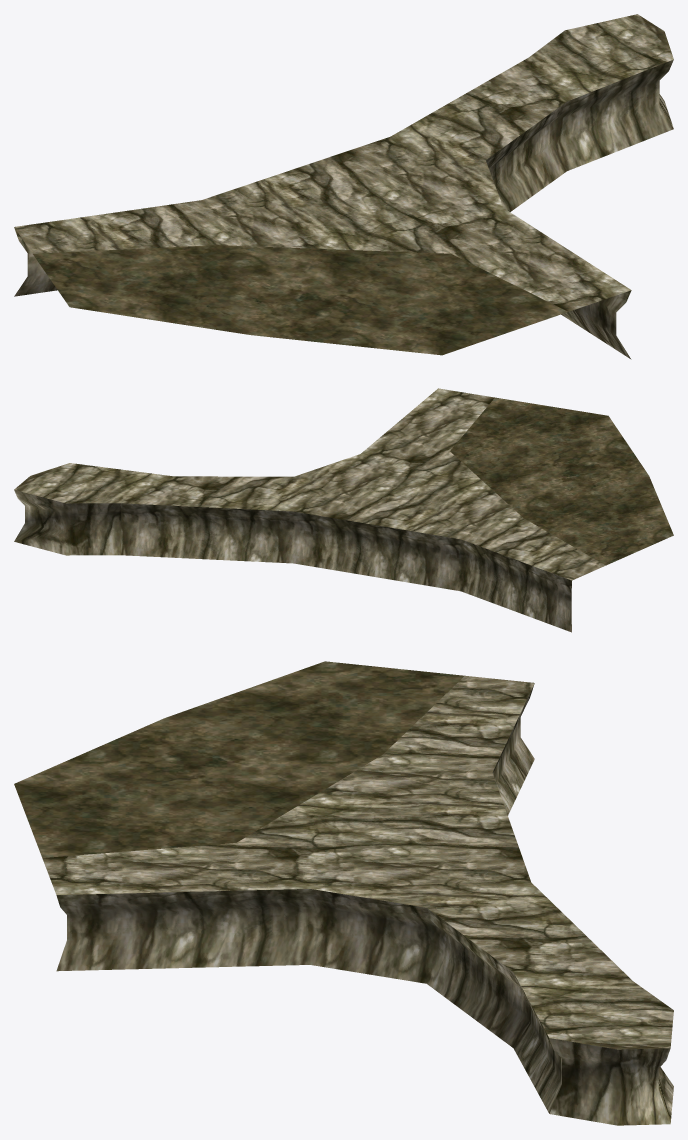
Rendered from CB_NEWPLAYSURFACE_CB_PLAYSURFACE152.fbx.
3 renders of one model, top to bottom at view 1: azimuth 30°, elevation 25°; view 2: azimuth 150°, elevation 25°; view 3: azimuth 270°, elevation 25°, orthographic. The views are drawn at different scales.
Parts seen in each view (by area): view 1: CB_NEWPLAYSURFACE_CB_PLAYSURFACE152; view 2: CB_NEWPLAYSURFACE_CB_PLAYSURFACE152; view 3: CB_NEWPLAYSURFACE_CB_PLAYSURFACE152.
Boxes of the visible parts, left/top/right/bottom form: CB_NEWPLAYSURFACE_CB_PLAYSURFACE152: left=14, top=14, right=673, bottom=359; CB_NEWPLAYSURFACE_CB_PLAYSURFACE152: left=14, top=388, right=673, bottom=632; CB_NEWPLAYSURFACE_CB_PLAYSURFACE152: left=14, top=661, right=673, bottom=1125.
Bounding box in the file's own units: 328437 × 30000 × 235940.
3 materials, 3 textured.
